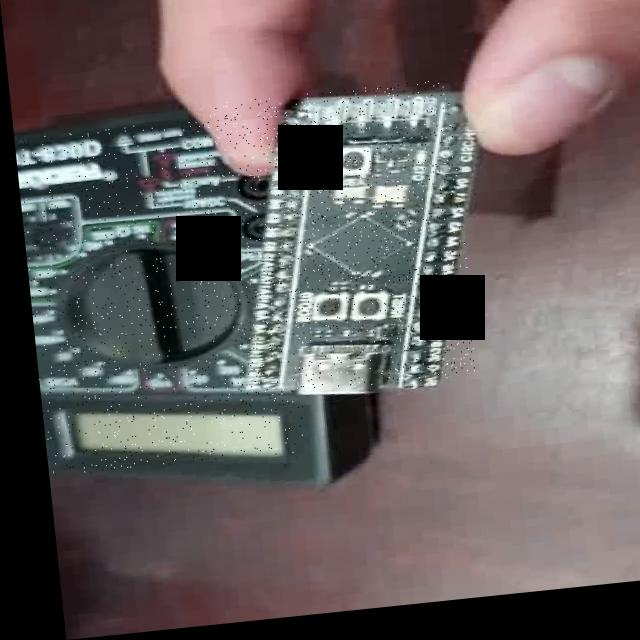multimeter: (11, 117, 297, 478)
stm32: (206, 88, 469, 404)
